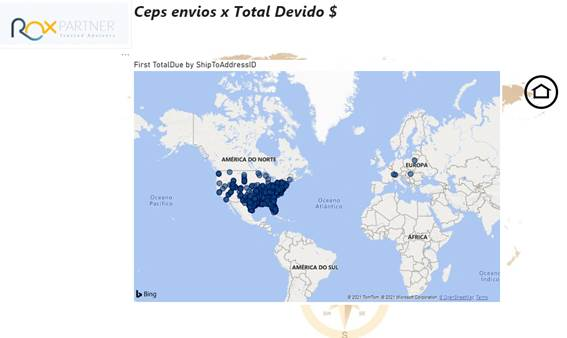

The dashboard page shown, as its layout file describes it:
{"tool":"powerbi","page":{"name":"CEPSENVIO","canvas":[1280,720],"ordinal":1},"visuals":[{"type":"image","box":[0,0,286.5,107.3],"z":0},{"type":"map","fields":{"Category":["SalesOrderHeader.ShipToAddressID"]},"box":[286.5,131.2,781.8,516.5],"z":7},{"type":"textbox","box":[286.5,0,636.5,80.4],"z":1000},{"type":"image","box":[1102.2,155.2,96,88.9],"z":5000}]}

Visuals, with their boxes on the page's 1280x720 design canvas (x1, y1, x2, y2). These are canvas units, not pixel positions in the 567x338 screenshot, which may show the page scaled, cropped or inside an application window:
image: [left=0, top=0, right=286, bottom=107]
map - SalesOrderHeader.ShipToAddressID: [left=286, top=131, right=1068, bottom=648]
textbox: [left=286, top=0, right=923, bottom=80]
image: [left=1102, top=155, right=1198, bottom=244]
